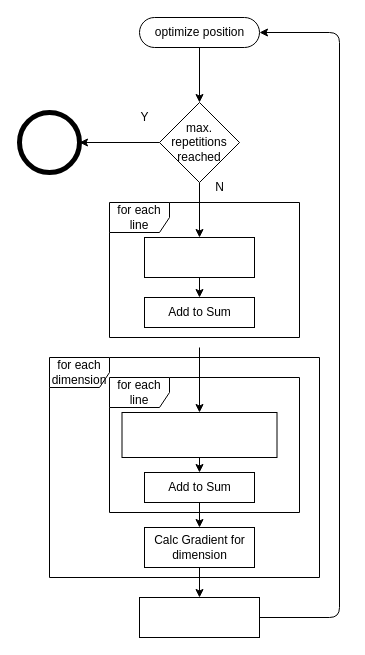
Some shapes in this 365 by 655 pixel diagram are drawn without their labels. The shapes that lost their labels are listed below. From the top down, each one's box as (x1, y1, x2, y2) in pixels, then its label:
(16, 110, 82, 174): return optimized position
(144, 236, 254, 278): Calculate distance from position to Line
(121, 412, 277, 458): Calculate Distance from position+dimension delta to Line
(138, 596, 260, 638): Adjust position based on Gradients
